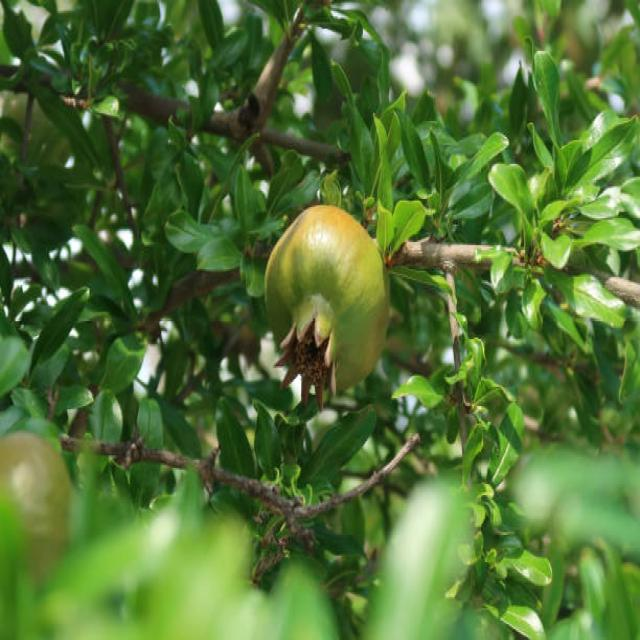Unripe: (266, 203, 392, 407)
